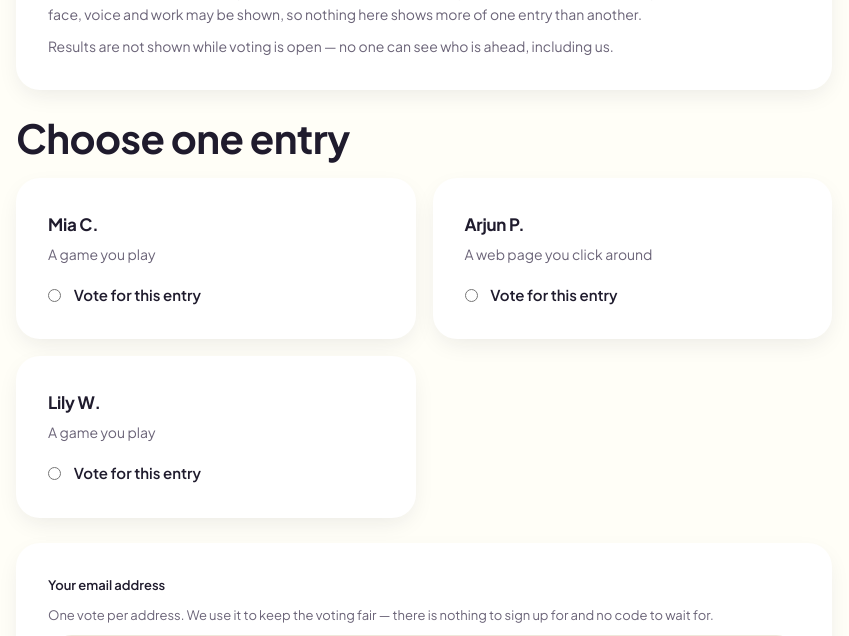
Scenario: PublicVotePage — casting a vote › posts the chosen entry and the typed email, with no invite code by default
(page scrolled)
Click the radio button labelled "Vote for this entry" below "Arjun P." at {"x": 471, "y": 295}, box [464,289,478,302]
(page scrolled)
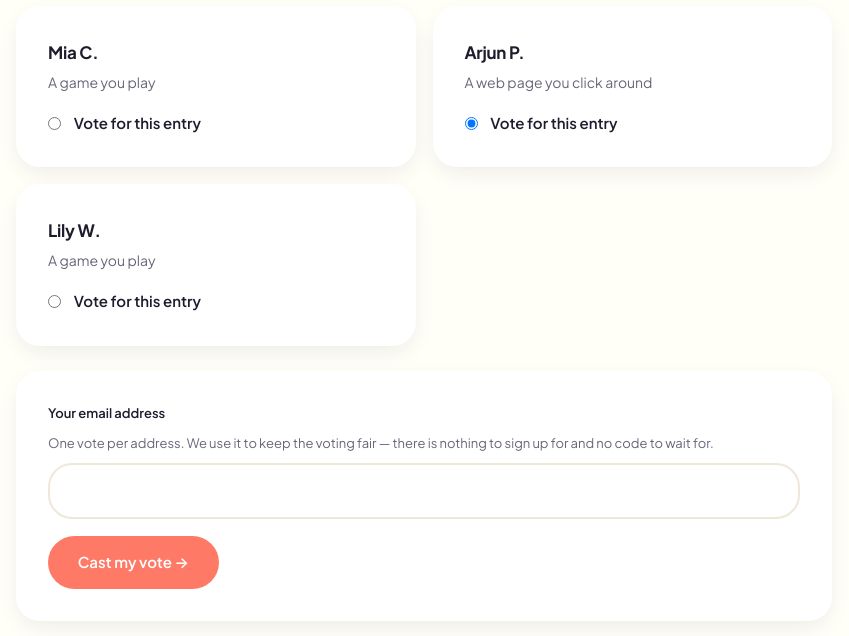
Type "grandma@example.com" into the field with test id "vote-email" at {"x": 424, "y": 491}, box [48,463,800,519]
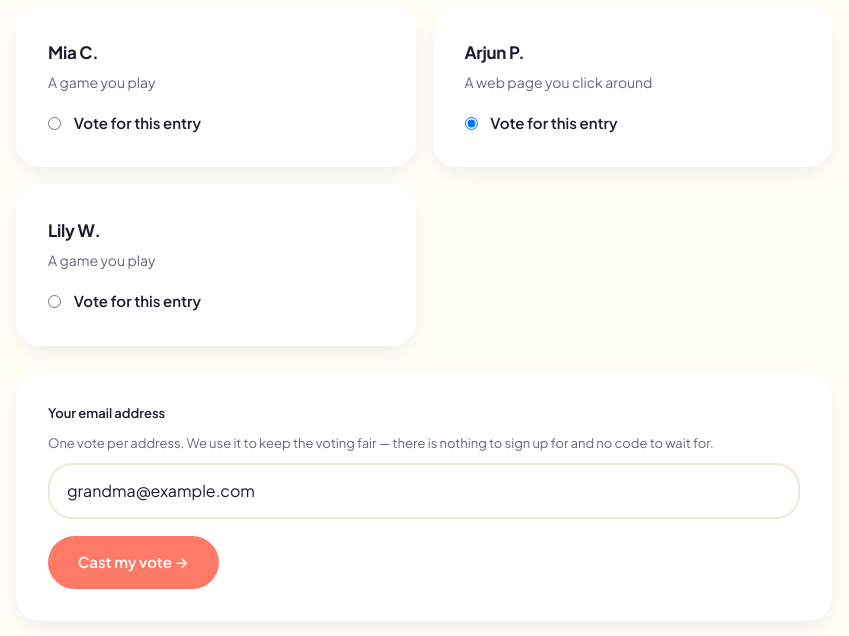
Click the button with test id "vote-submit" at {"x": 133, "y": 562}, box [48,536,219,589]
(page scrolled)
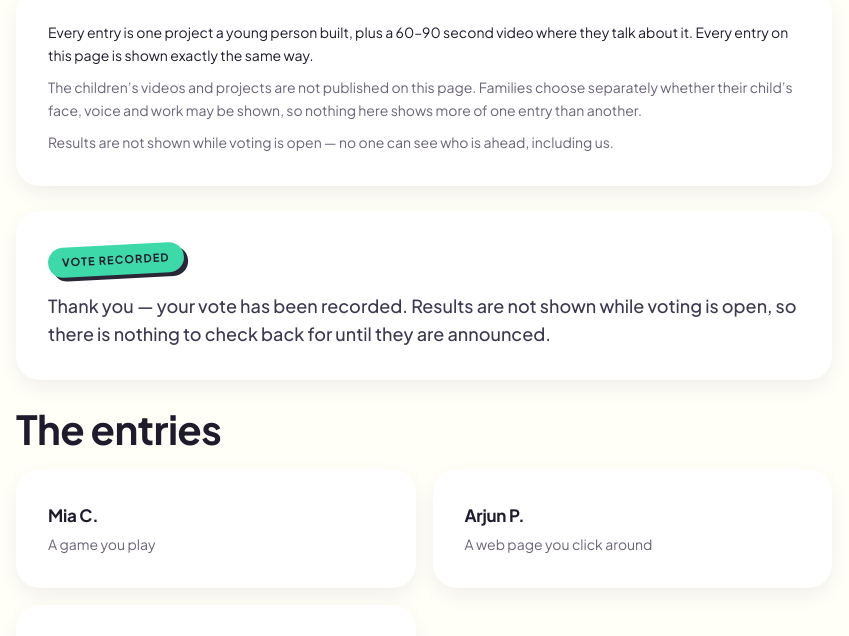
Check: the message with test id "vote-receipt" is shown, box [16,211,832,380]
